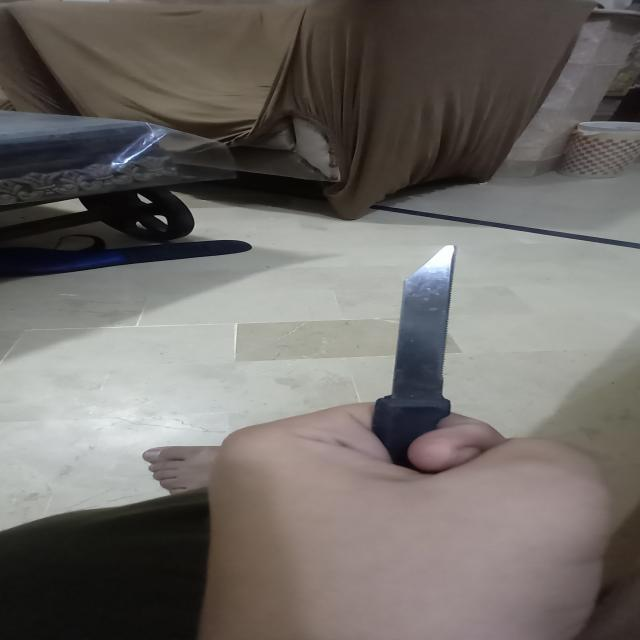Knife: (371, 235, 518, 490)
